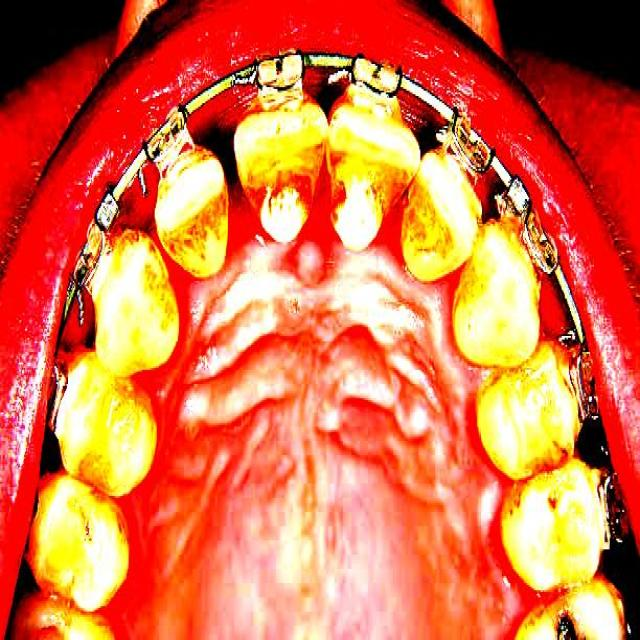caries: (551, 601, 594, 640)
